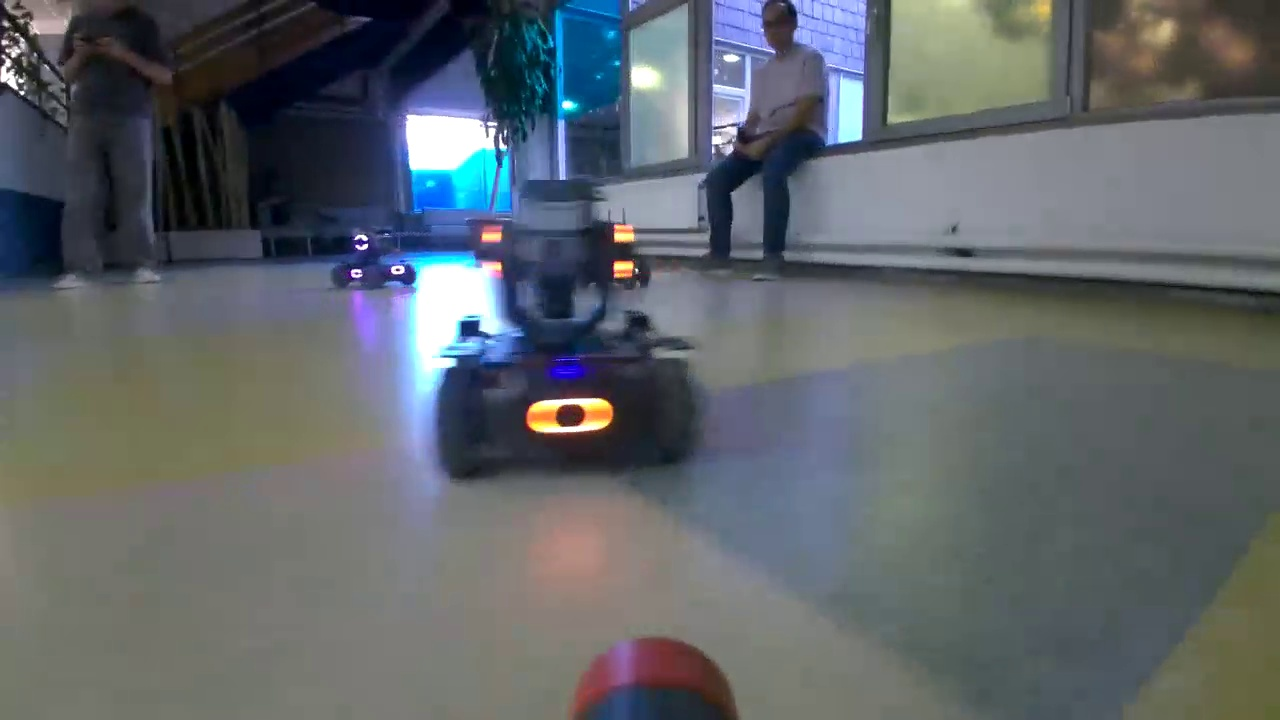robot: (435, 198, 705, 479), (331, 229, 416, 287)
